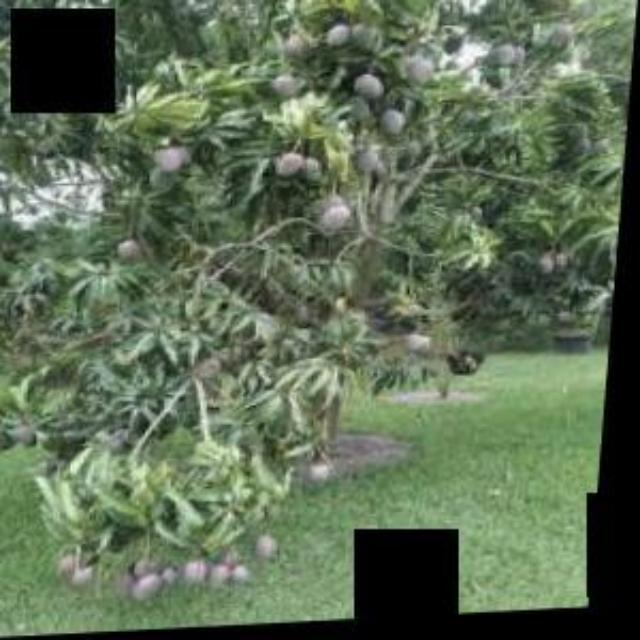tree: (0, 1, 638, 604)
